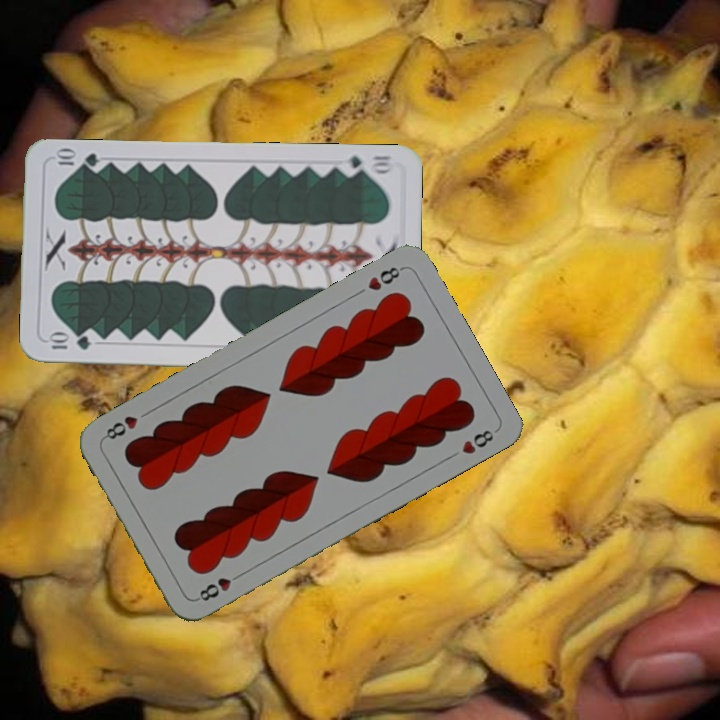G10: (337, 151, 396, 178), (44, 332, 94, 352)
H8: (192, 568, 246, 604), (363, 262, 406, 293)
